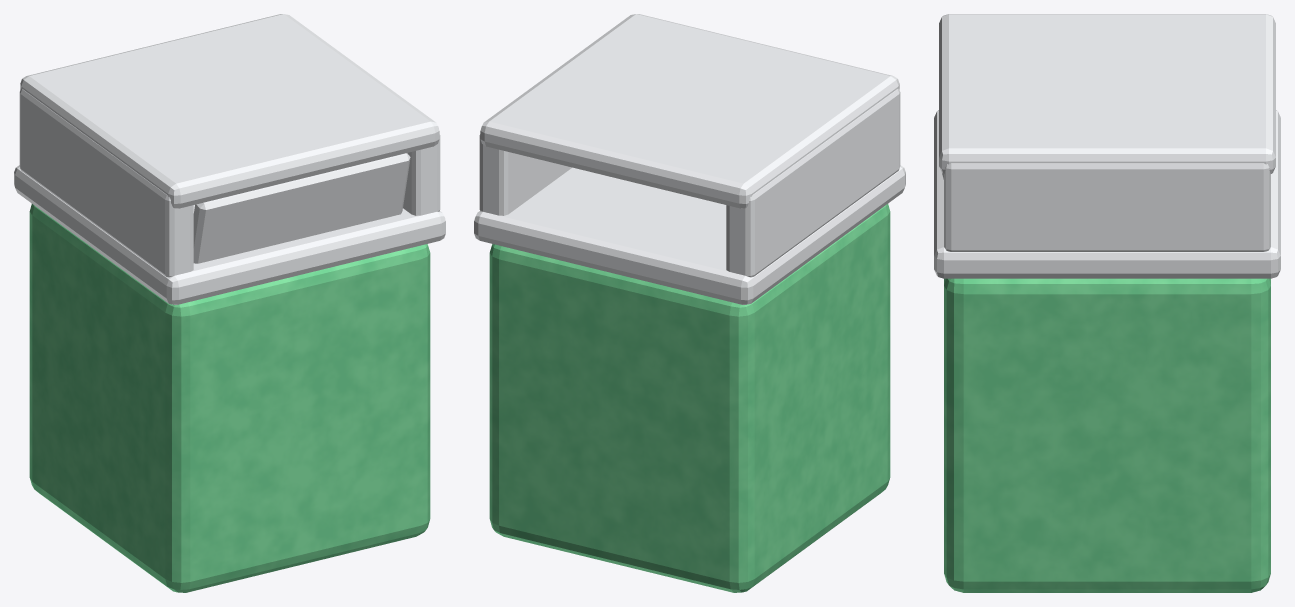
File: tong_sampah_dalam.fbx
The picture shows the model from 3 angles, left to right: view 1: azimuth 30°, elevation 25°; view 2: azimuth 150°, elevation 25°; view 3: azimuth 270°, elevation 25°; orthographic projection. The views are drawn at different scales.
Visible parts, largest first — view 1: tong_sampah_dalam; view 2: tong_sampah_dalam; view 3: tong_sampah_dalam.
Part boxes in pixels (bbox=[...]): tong_sampah_dalam: bbox=[14, 14, 445, 592]; tong_sampah_dalam: bbox=[474, 14, 905, 592]; tong_sampah_dalam: bbox=[934, 14, 1280, 592].
Size of the model in its own units: 140 by 200 by 140.
Materials: 1 (1 with a texture image).
